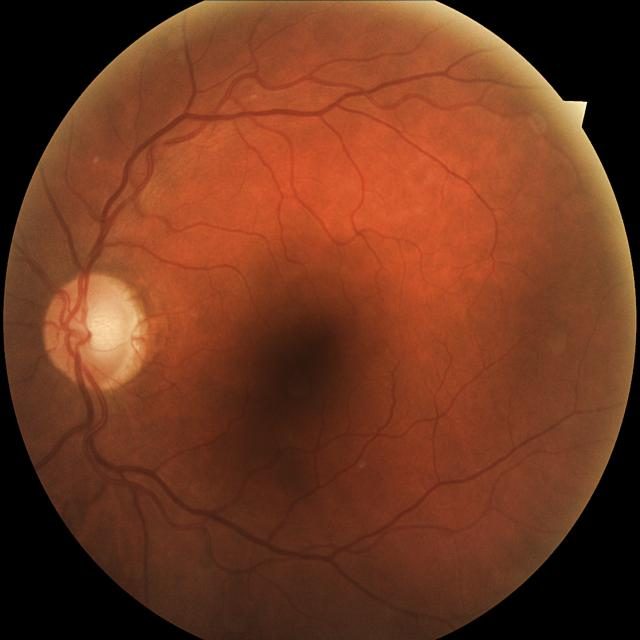OC: (86, 314, 119, 354)
OD: (43, 276, 138, 388)
